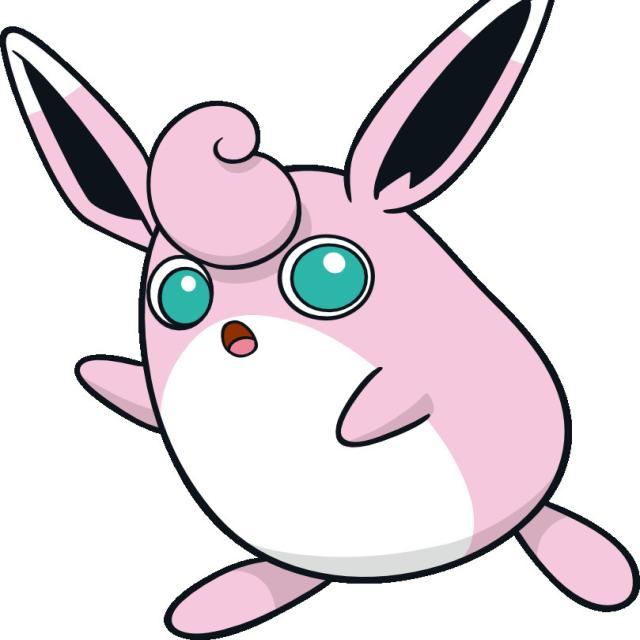Wigglytuff: (62, 90, 601, 596)
